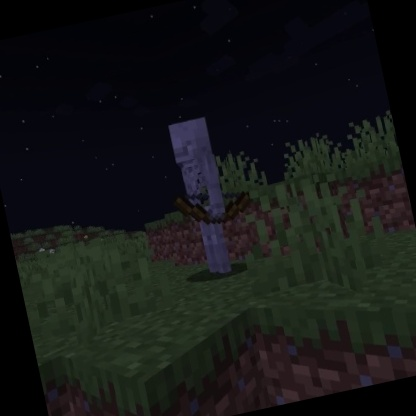skeleton: (152, 105, 268, 285)
